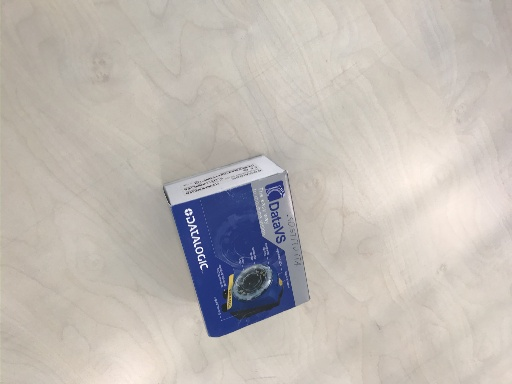Box: (163, 152, 312, 339)
